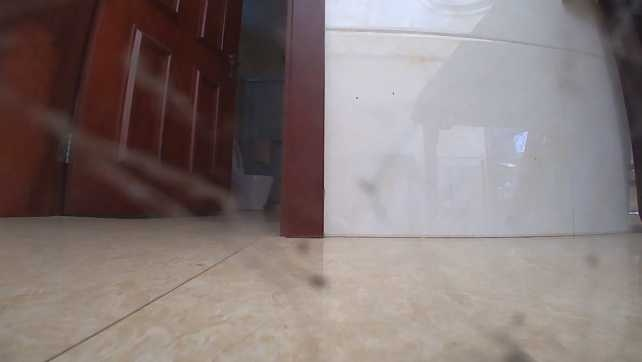door_anno: (0, 2, 245, 217)
toilet: (230, 137, 275, 211)
